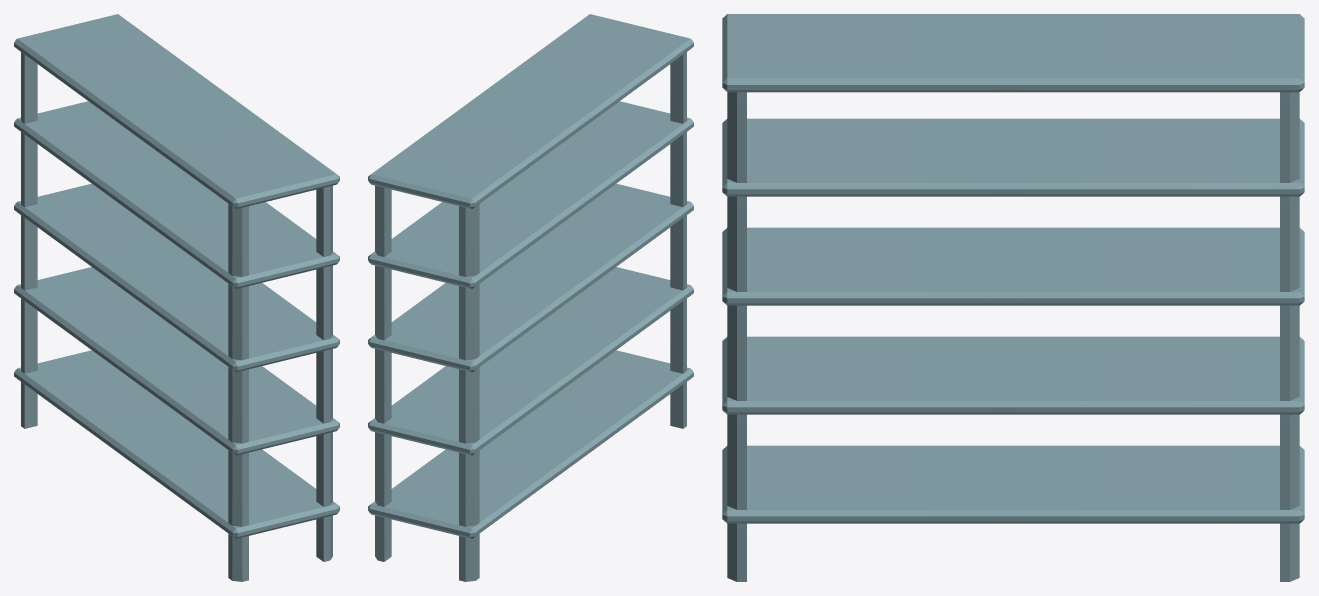
Rendered from Cupboard.glb.
The picture shows the model from 3 angles, left to right: view 1: azimuth 30°, elevation 25°; view 2: azimuth 150°, elevation 25°; view 3: azimuth 270°, elevation 25°; orthographic projection. The views are drawn at different scales.
Parts seen in each view (by area): view 1: Cupboard; view 2: Cupboard; view 3: Cupboard.
Boxes of the visible parts, x1,y1,x2,y2 form: Cupboard: [14, 14, 339, 581]; Cupboard: [368, 14, 693, 581]; Cupboard: [722, 14, 1304, 581].
Bounding box in the file's own units: 0.543 × 1.86 × 1.95.
1 material, 1 textured.
